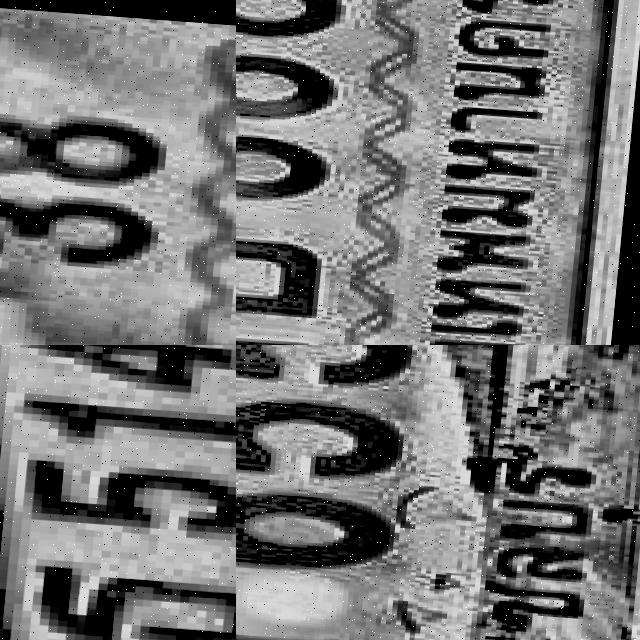license-plate: (236, 0, 640, 345), (236, 345, 640, 640), (0, 0, 236, 345), (0, 345, 236, 640)
